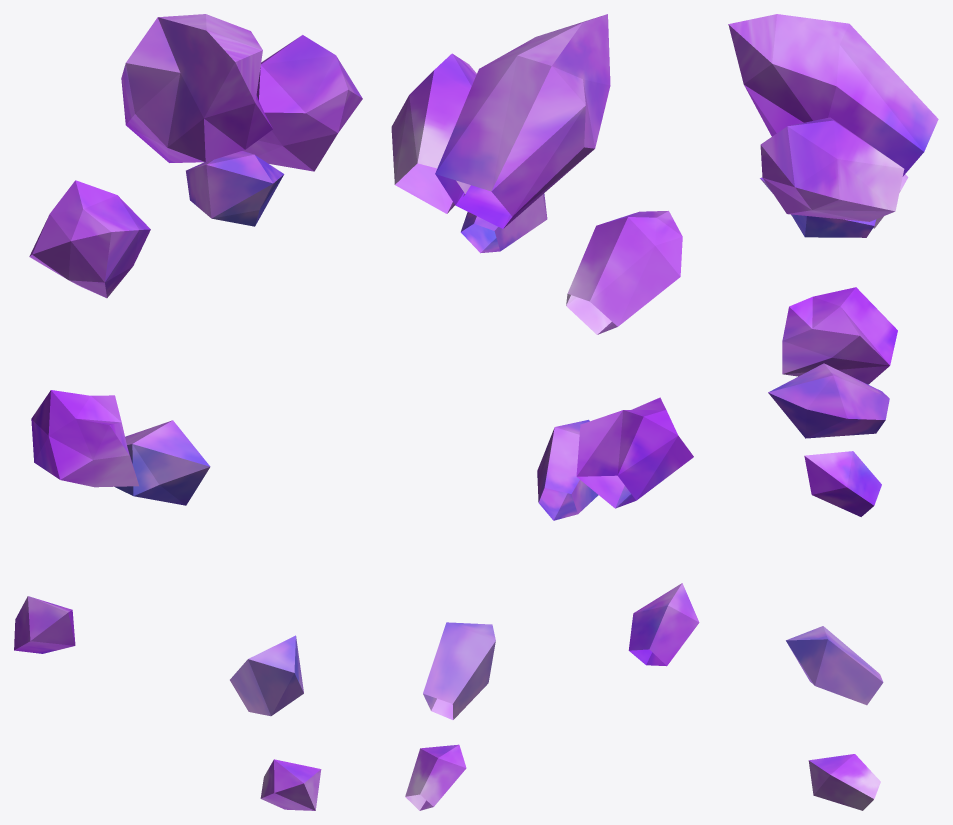
Rendered from rockface_natural_crystalcliff01_03.FBX.
The picture shows the model from 3 angles, left to right: view 1: azimuth 30°, elevation 25°; view 2: azimuth 150°, elevation 25°; view 3: azimuth 270°, elevation 25°; orthographic projection. The views are drawn at different scales.
Parts seen in each view (by area): view 1: rockface_natural_crystalcliff01_03; view 2: rockface_natural_crystalcliff01_03; view 3: rockface_natural_crystalcliff01_03.
Part boxes in pixels (x1=…): rockface_natural_crystalcliff01_03: x1=14, y1=14, x2=362, y2=810; rockface_natural_crystalcliff01_03: x1=391, y1=14, x2=699, y2=810; rockface_natural_crystalcliff01_03: x1=728, y1=14, x2=938, y2=810.
Size of the model in its own units: 2.86 by 7.19 by 1.85.
